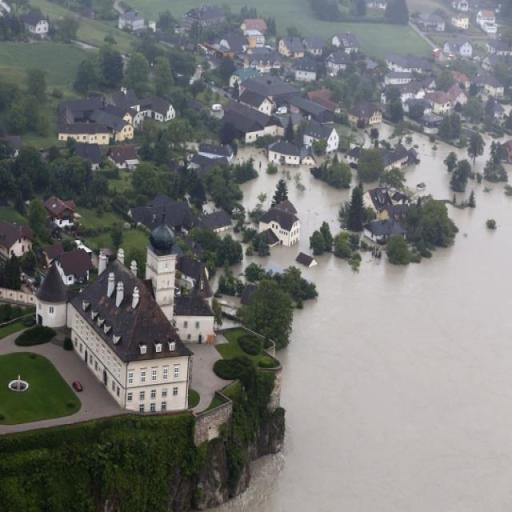flood: (252, 132, 512, 512), (235, 146, 351, 272), (475, 134, 494, 172), (378, 122, 395, 140), (506, 164, 512, 184)
house: (74, 262, 185, 414), (174, 264, 214, 344), (222, 100, 286, 144), (56, 96, 112, 142), (34, 262, 68, 328), (262, 201, 300, 249), (360, 218, 405, 256), (0, 219, 34, 260), (364, 186, 406, 218), (154, 196, 194, 228), (184, 4, 228, 32), (290, 96, 337, 122), (267, 139, 303, 171), (304, 122, 340, 154), (44, 195, 74, 230), (24, 8, 53, 38), (472, 6, 500, 36), (146, 94, 176, 122), (200, 208, 232, 234), (380, 144, 412, 169), (425, 90, 453, 118), (331, 32, 362, 54), (196, 142, 236, 159), (230, 67, 255, 93), (109, 146, 138, 168), (294, 58, 320, 82), (418, 12, 446, 34), (242, 18, 268, 40), (278, 36, 304, 58), (246, 53, 276, 72), (326, 53, 352, 74), (360, 102, 383, 125), (385, 69, 411, 89), (483, 74, 505, 97), (121, 9, 145, 29), (116, 120, 136, 142), (306, 36, 324, 56), (452, 12, 470, 32), (449, 85, 467, 105), (457, 40, 474, 57)
